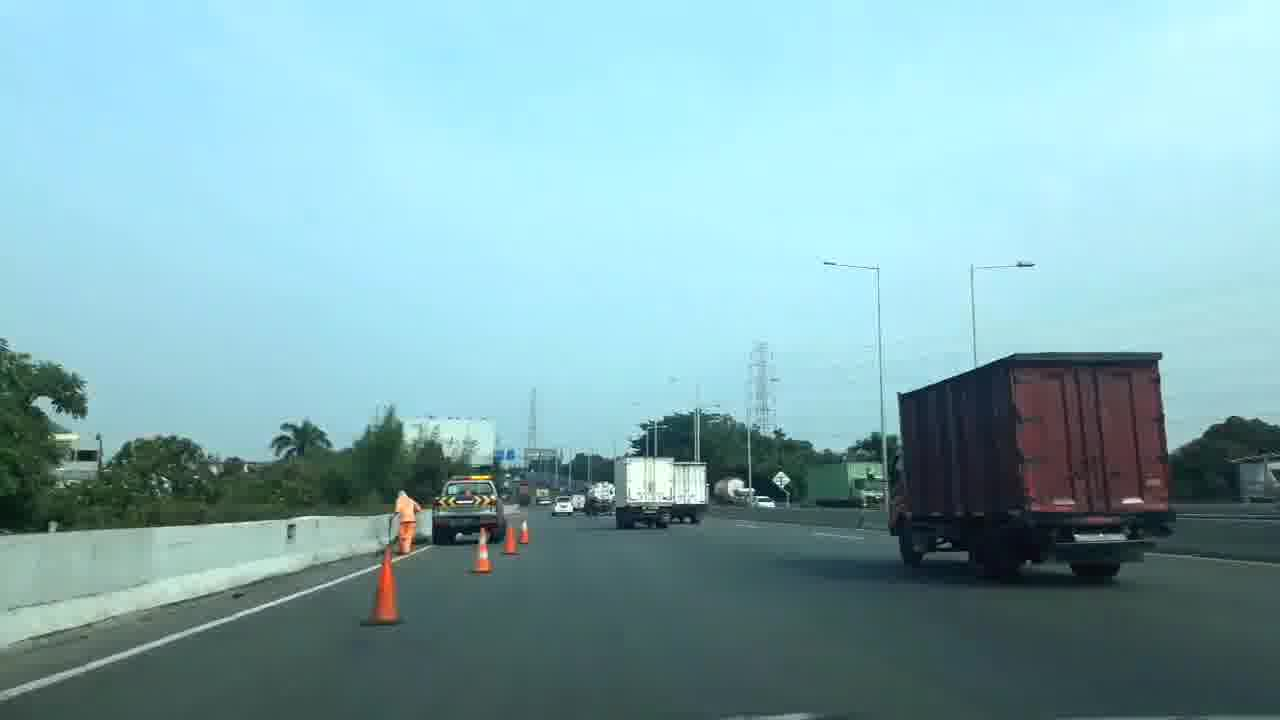plate_positive: (1071, 528, 1129, 542)
